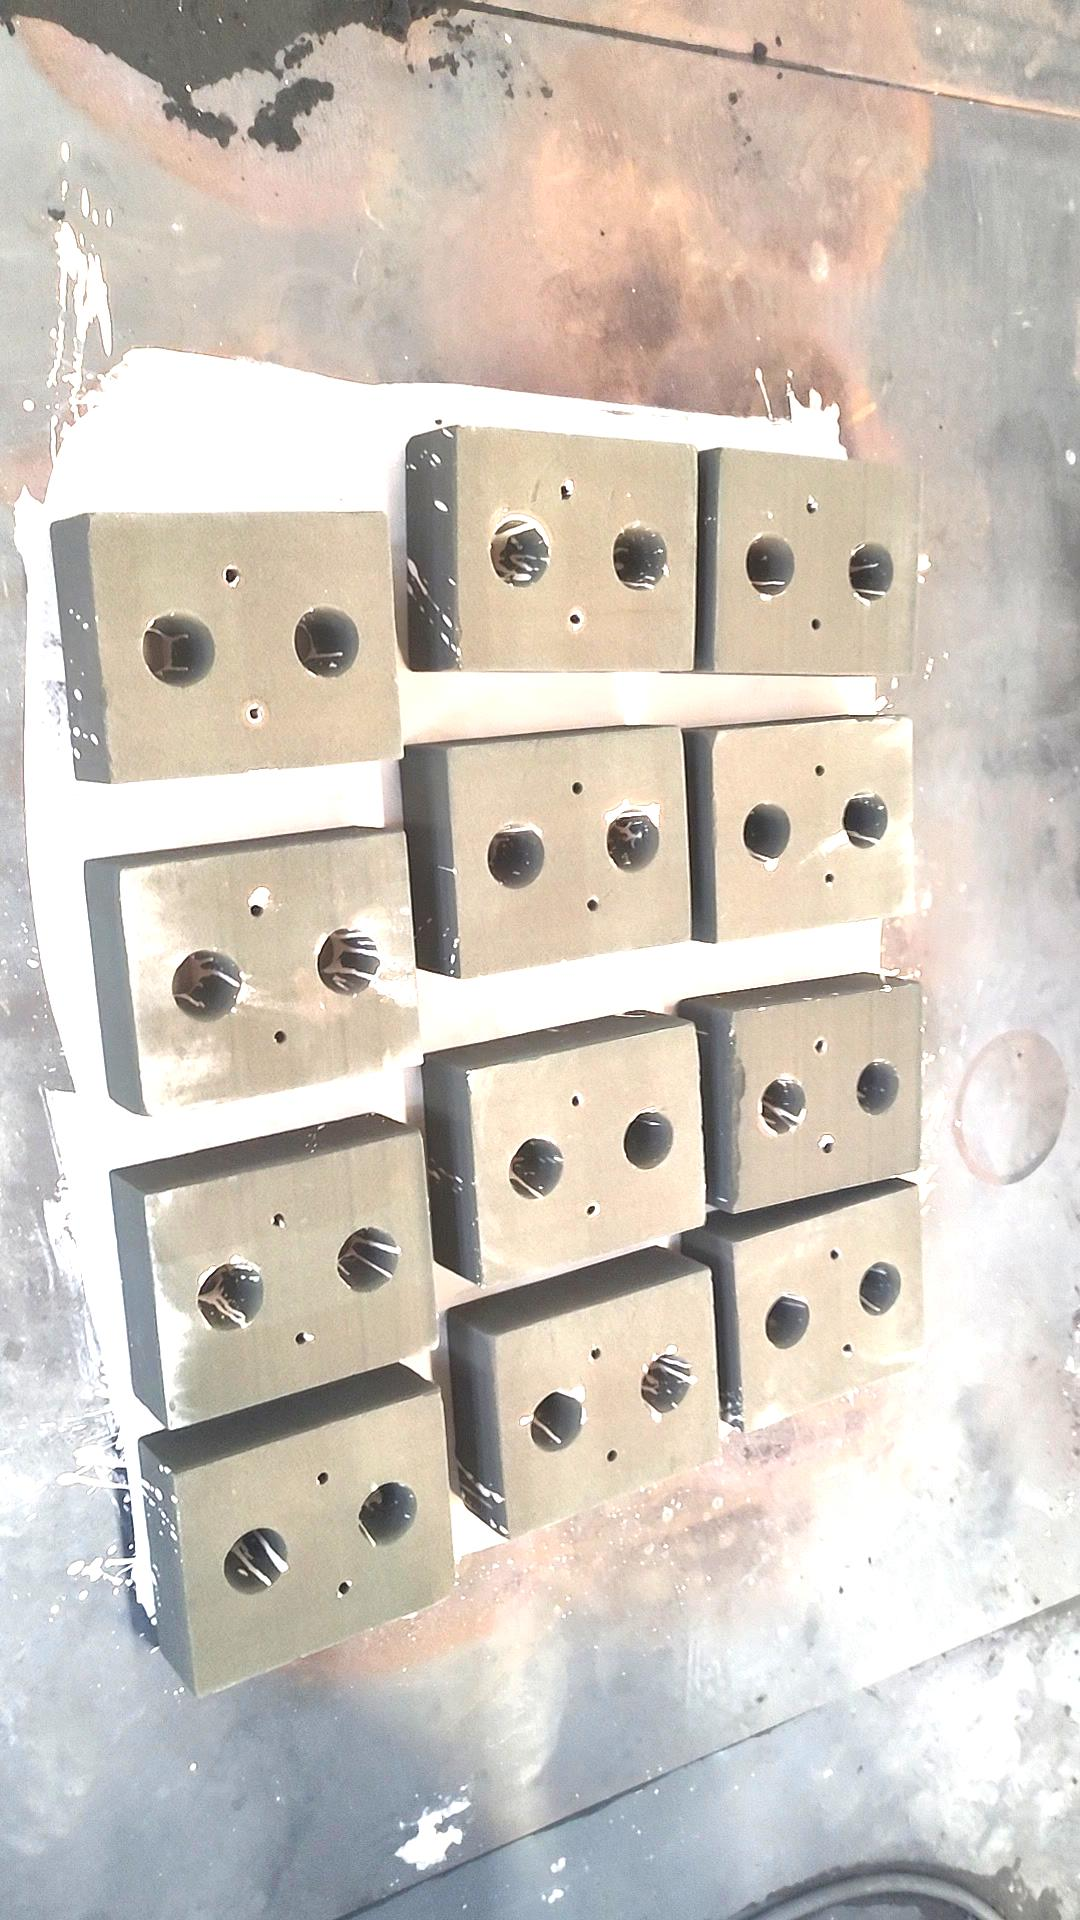pouring hole: (141, 611, 215, 688), (171, 949, 243, 1023), (196, 1263, 264, 1331), (295, 607, 359, 678), (491, 514, 551, 588), (316, 928, 381, 996), (223, 1528, 286, 1596), (338, 1228, 398, 1294), (357, 1482, 418, 1547), (488, 822, 545, 889), (613, 524, 669, 591), (744, 531, 796, 595), (510, 1138, 564, 1199), (607, 810, 659, 872), (530, 1390, 583, 1452), (757, 1076, 808, 1138), (640, 1353, 691, 1414), (624, 1110, 674, 1171), (849, 541, 894, 604), (744, 802, 791, 861), (843, 790, 887, 849), (765, 1294, 810, 1350), (858, 1261, 902, 1317), (856, 1060, 899, 1116)
